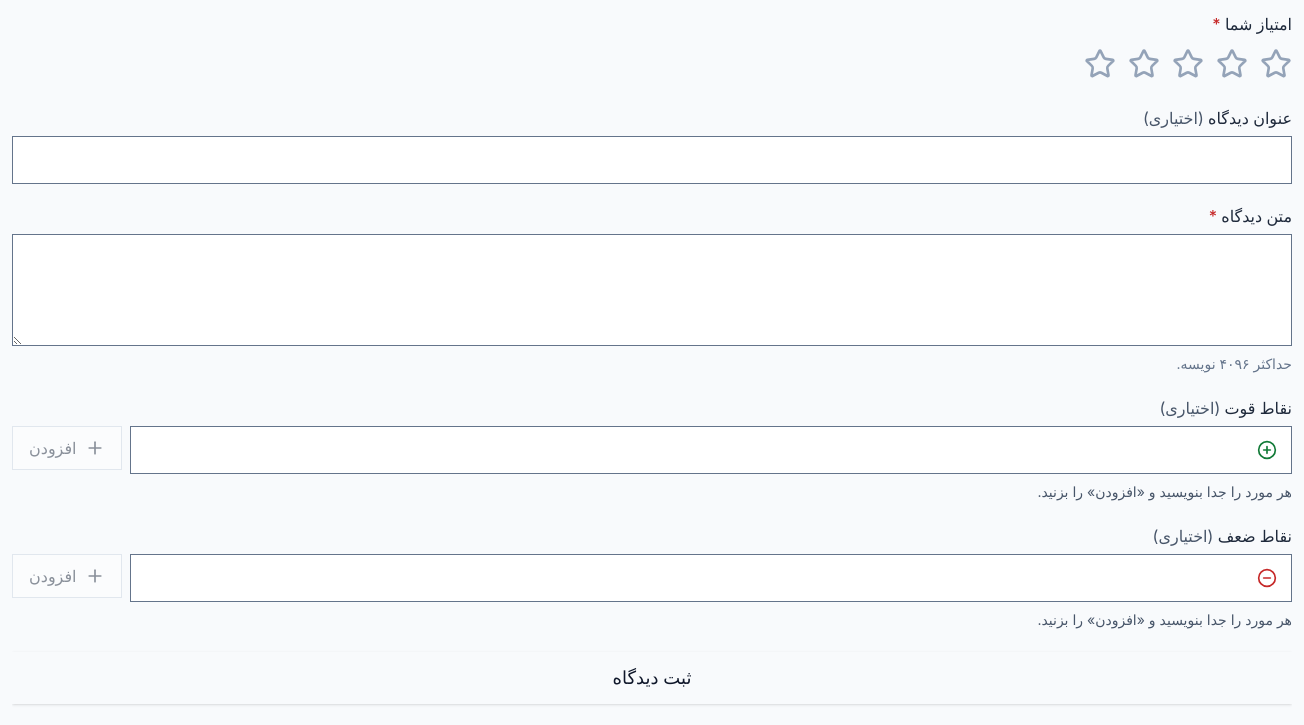
the API’s answers › 503 product_comments: the submit is disabled with the shop’s reason (the form stays)
Click the radio button named "۲ ستاره: بد" at (1232, 64), box [1216,48,1248,80]
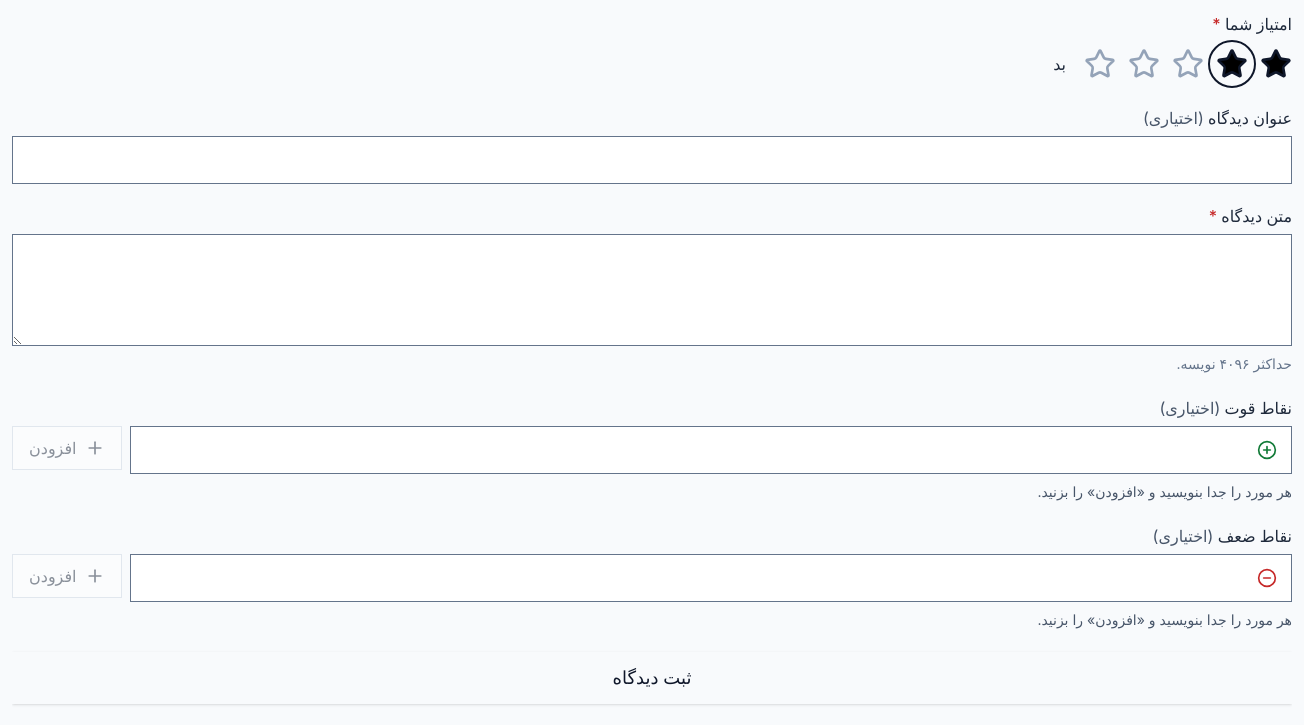
Type "متن" into the text box labelled "متن دیدگاه *" at (652, 290), box [12,234,1292,346]
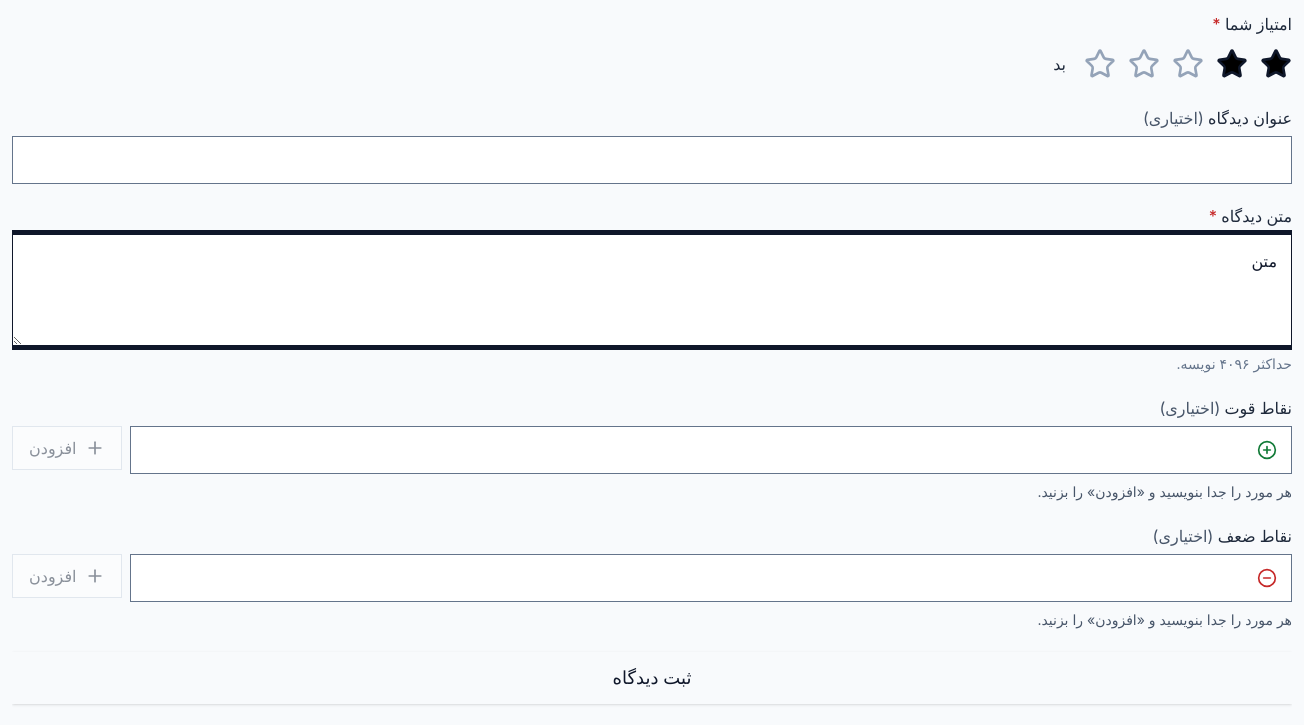
Click the button "ثبت دیدگاه" at (652, 678), box [12,652,1292,704]
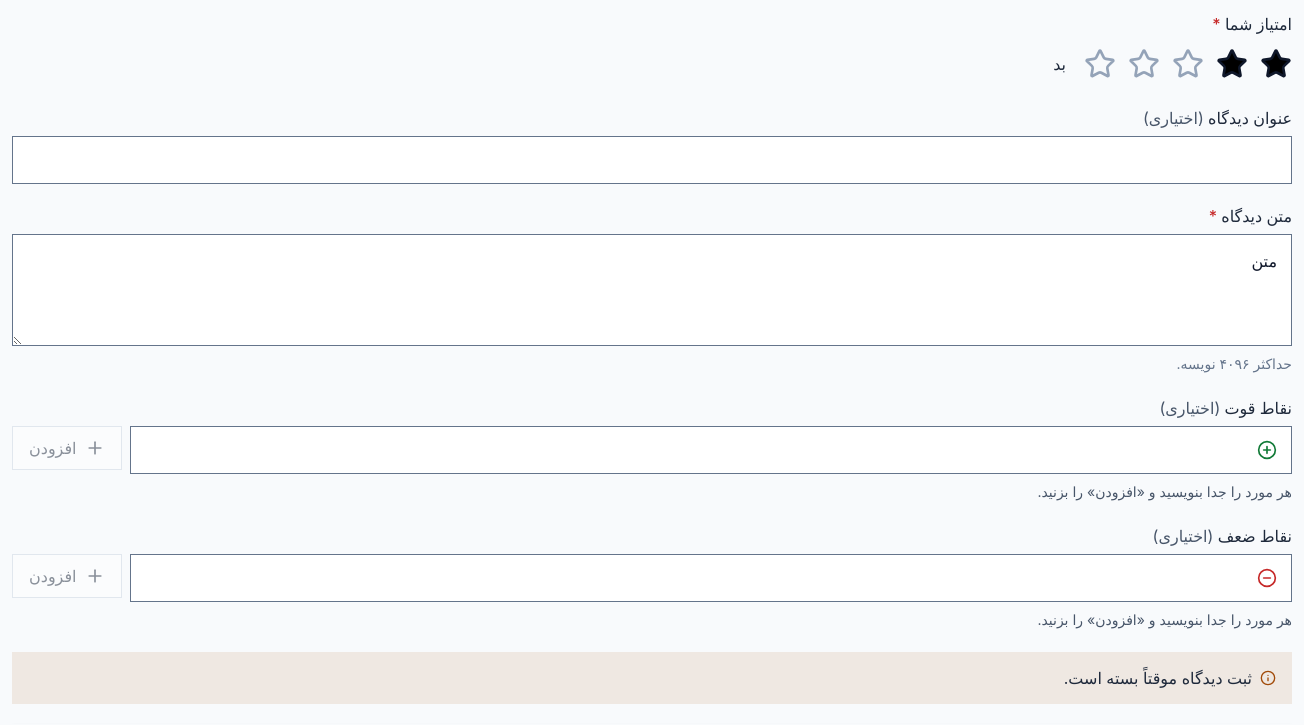
Result: the text "ثبت دیدگاه موقتاً بسته است." is shown at [1064,664,1252,692]
